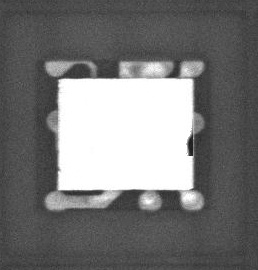DIE_BROKEN: (184, 131, 195, 159)
